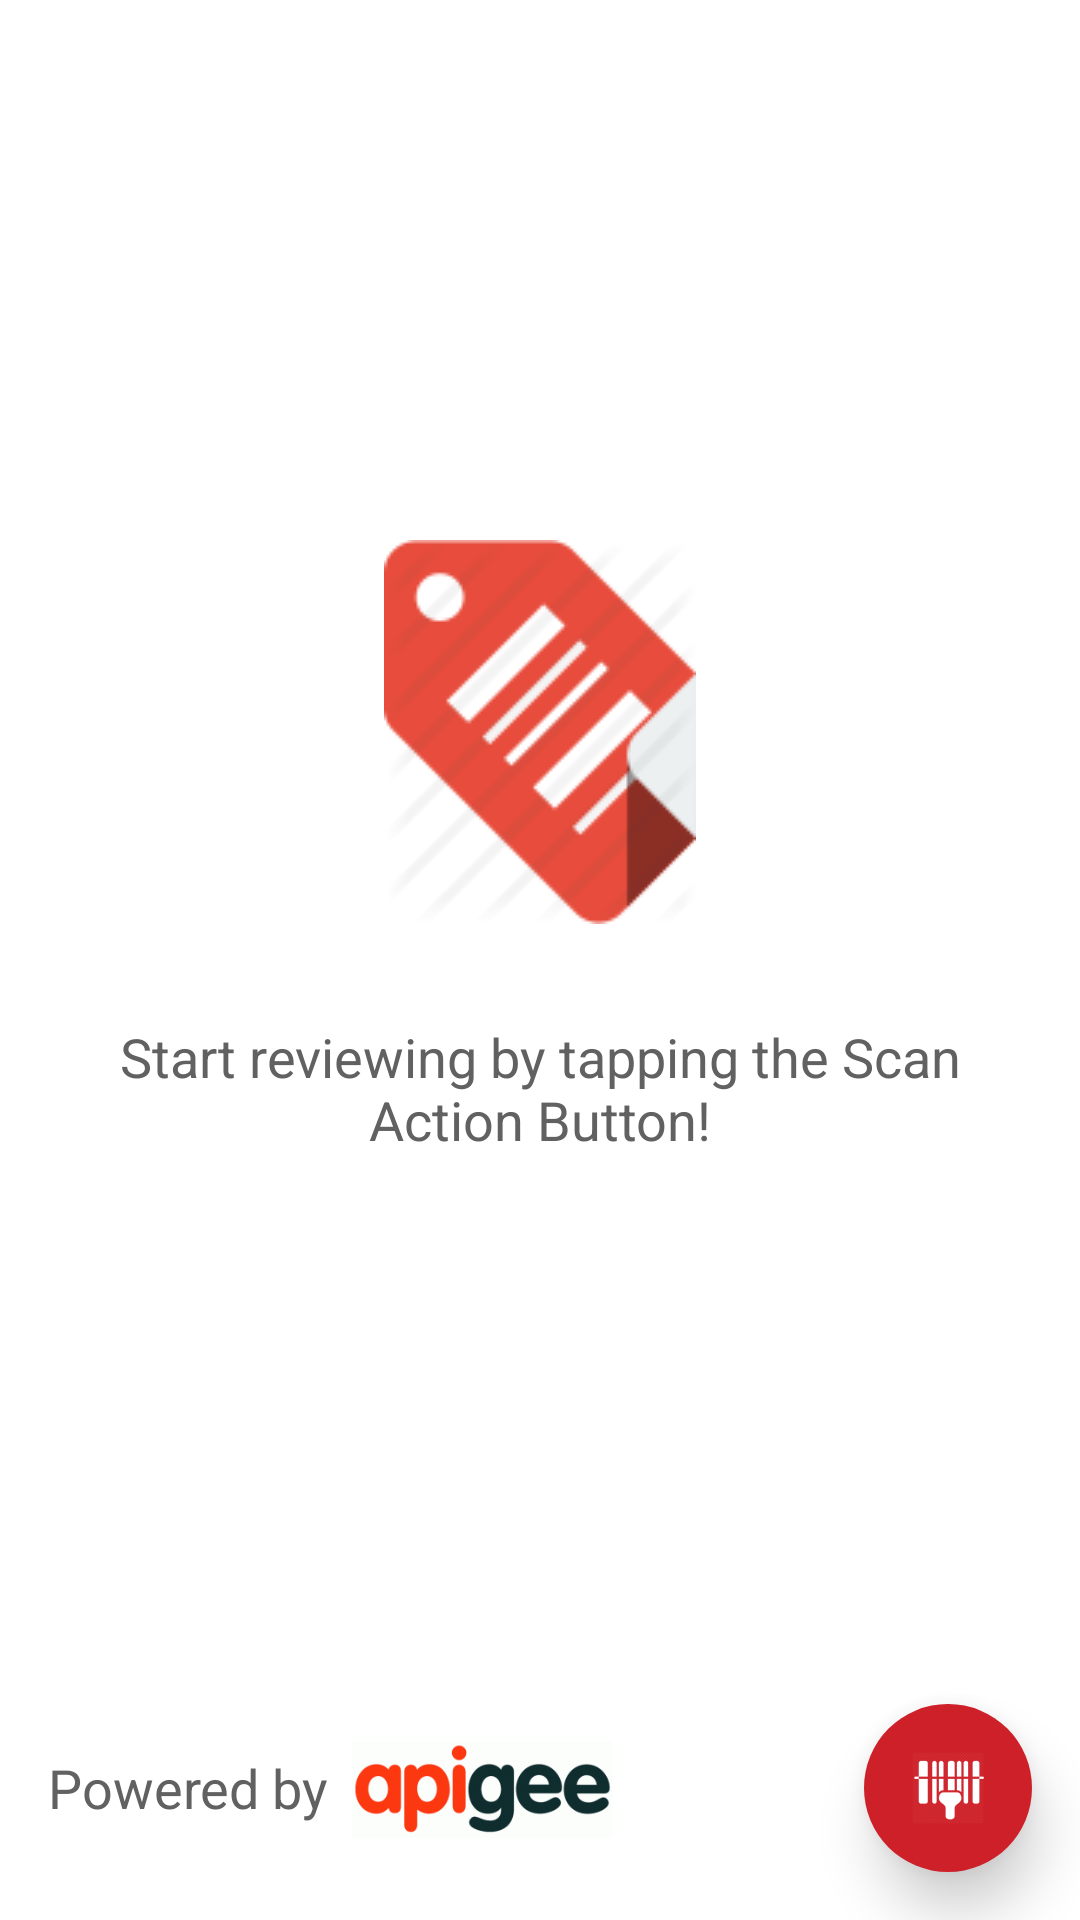

Where icons sit on this 1080px x 1920px app screen, as (x1, y1, x2, y2):
barcode scanner: (864, 1704, 1032, 1872)
